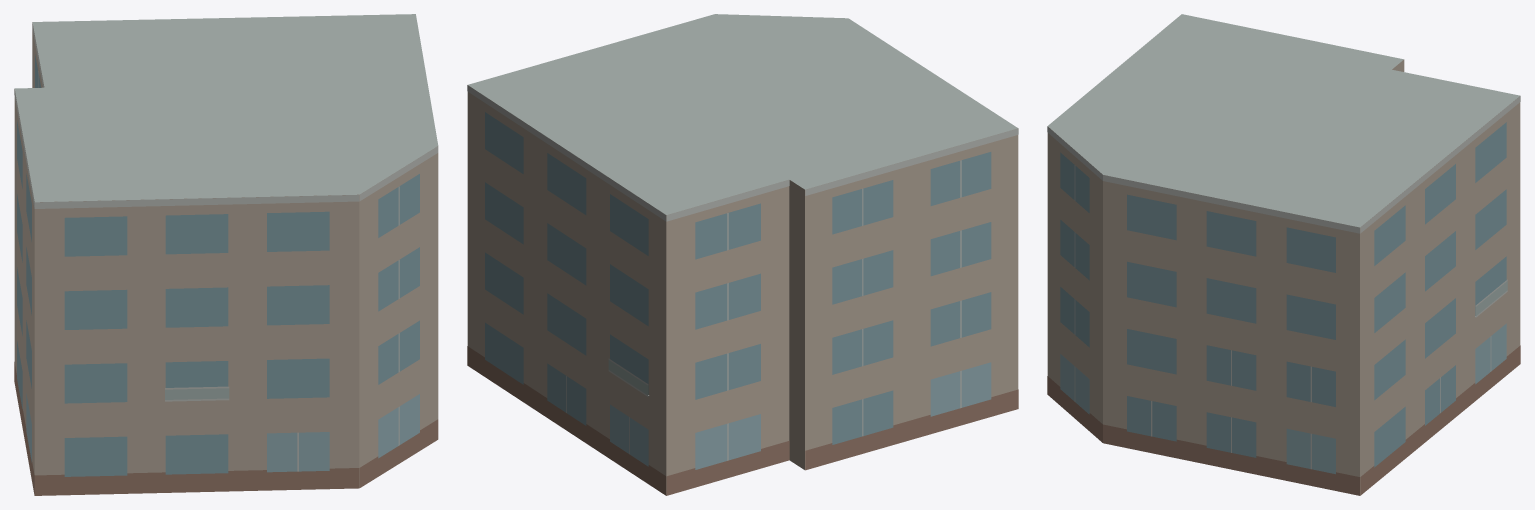
The model's file is survey-upis-32893342.glb.
3 renders of one model, left to right at view 1: azimuth 30°, elevation 25°; view 2: azimuth 150°, elevation 25°; view 3: azimuth 270°, elevation 25°, orthographic. The views are drawn at different scales.
Visible parts, largest first — view 1: survey-upis-32893342.tmp; view 2: survey-upis-32893342.tmp; view 3: survey-upis-32893342.tmp.
Boxes of the visible parts, x1,y1,x2,y2 form: survey-upis-32893342.tmp: [14, 14, 438, 495]; survey-upis-32893342.tmp: [467, 14, 1018, 495]; survey-upis-32893342.tmp: [1047, 14, 1520, 495].
Size of the model in its own units: 17.93 by 10.5 by 16.78.
